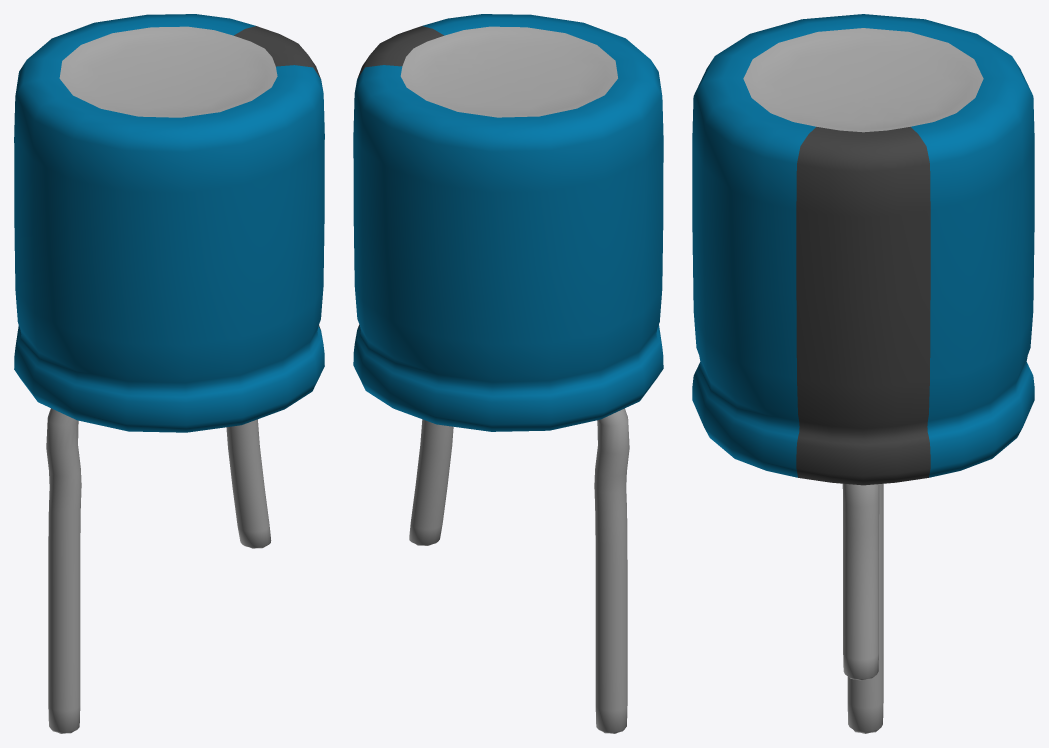
The model's file is capacitor3.fbx.
3 renders of one model, left to right at view 1: azimuth 30°, elevation 25°; view 2: azimuth 150°, elevation 25°; view 3: azimuth 270°, elevation 25°, orthographic. The views are drawn at different scales.
Parts seen in each view (by area): view 1: CapacitorB2, LegsB2; view 2: CapacitorB2, LegsB2; view 3: CapacitorB2, LegsB2.
Boxes of the visible parts, x1,y1,x2,y2 form: CapacitorB2: (14,14,324,432); LegsB2: (46,408,271,733); CapacitorB2: (353,14,663,431); LegsB2: (409,408,629,733); CapacitorB2: (692,14,1034,485); LegsB2: (842,483,883,733).
Size of the model in its own units: 74.63 by 76.65 by 169.
